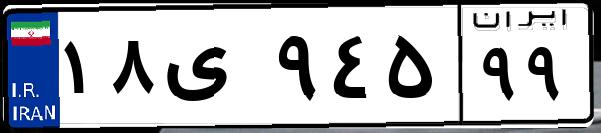1: (57, 26, 110, 100)
4: (330, 28, 385, 110)
5: (385, 28, 445, 110)
8: (110, 28, 158, 98)
9: (270, 28, 330, 110), (475, 38, 525, 113), (525, 38, 570, 115)
ی: (158, 20, 270, 120)
